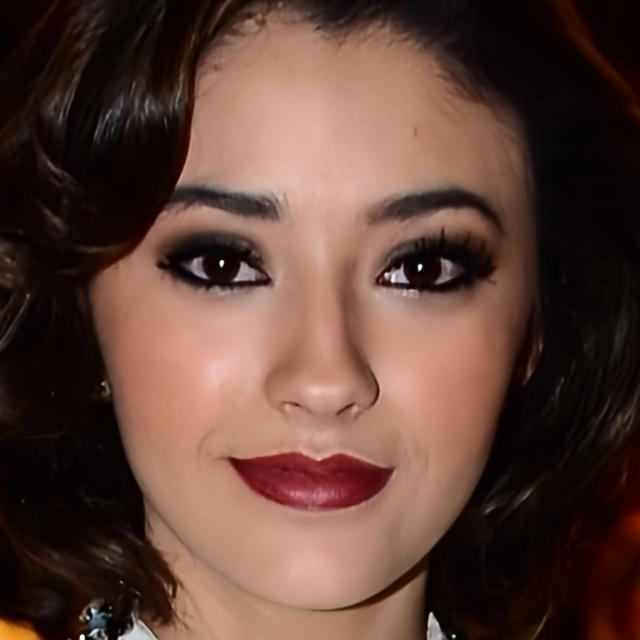content: (99, 27, 528, 614)
